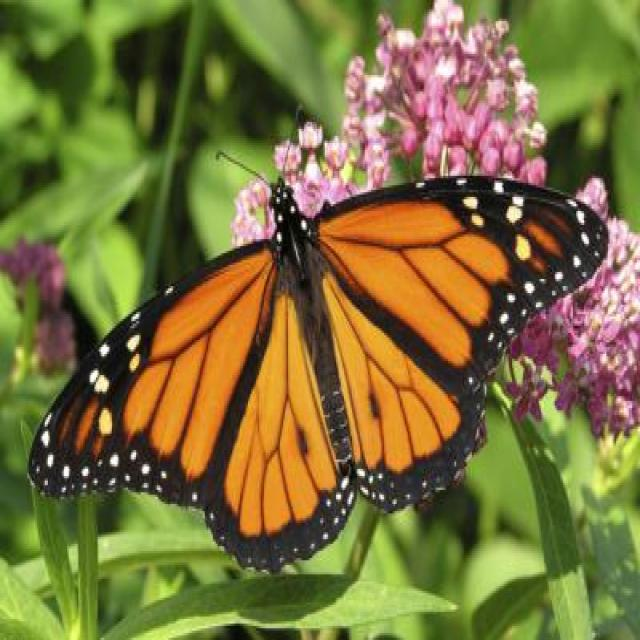antennae: (204, 98, 314, 183)
body: (262, 186, 360, 481)
insect: (27, 94, 610, 570)
wings: (29, 238, 356, 570), (309, 178, 610, 512)
